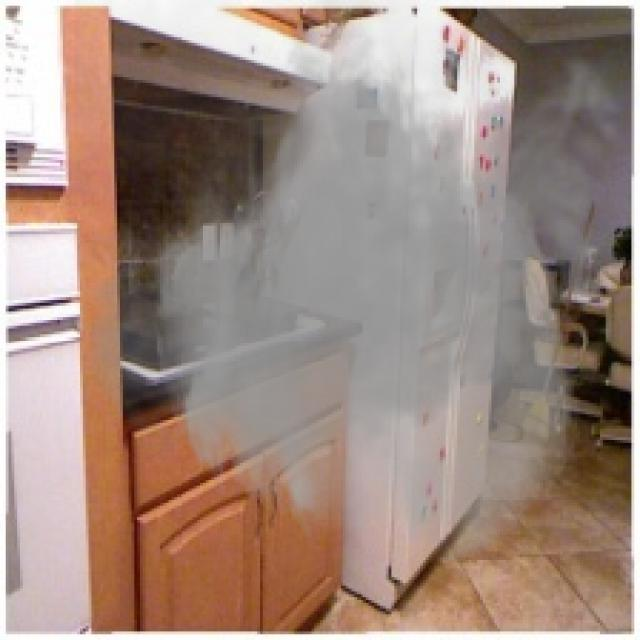smoke: (74, 0, 637, 569)
